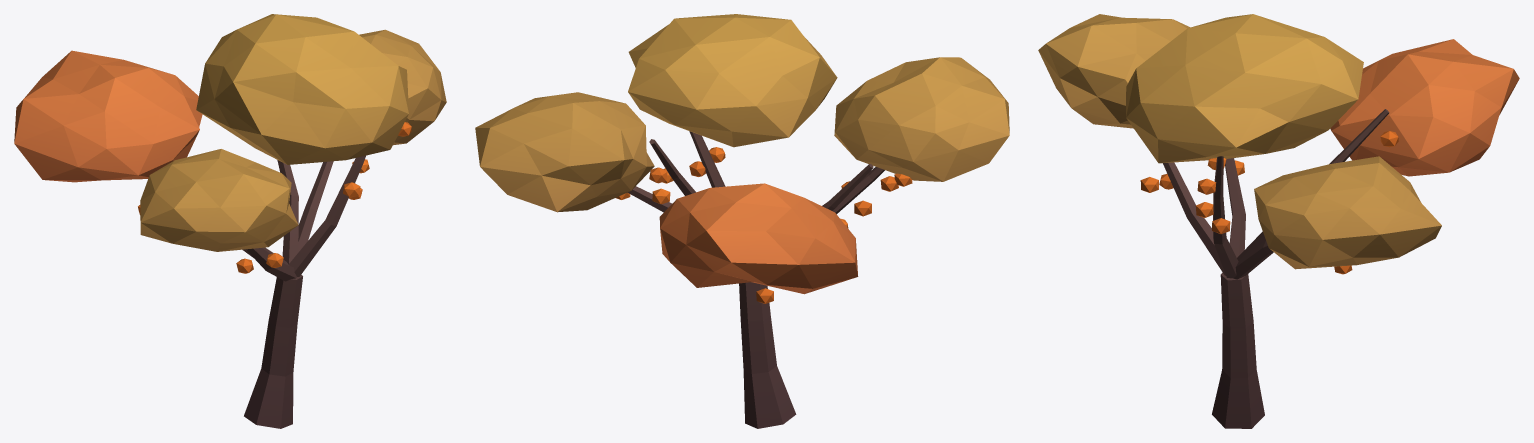
The model's file is persimmon_tree.glb.
3 views of the same model, side by side, from view 1: azimuth 30°, elevation 25°; view 2: azimuth 150°, elevation 25°; view 3: azimuth 270°, elevation 25° (orthographic). The views are drawn at different scales.
Visible parts, largest first — view 1: persimmon_tree; view 2: persimmon_tree; view 3: persimmon_tree.
Boxes of the visible parts, x1=… form: persimmon_tree: x1=14, y1=14, x2=446, y2=428; persimmon_tree: x1=475, y1=14, x2=1009, y2=428; persimmon_tree: x1=1038, y1=14, x2=1519, y2=428.
Bounding box in the file's own units: 4.6 × 4.22 × 4.55.
